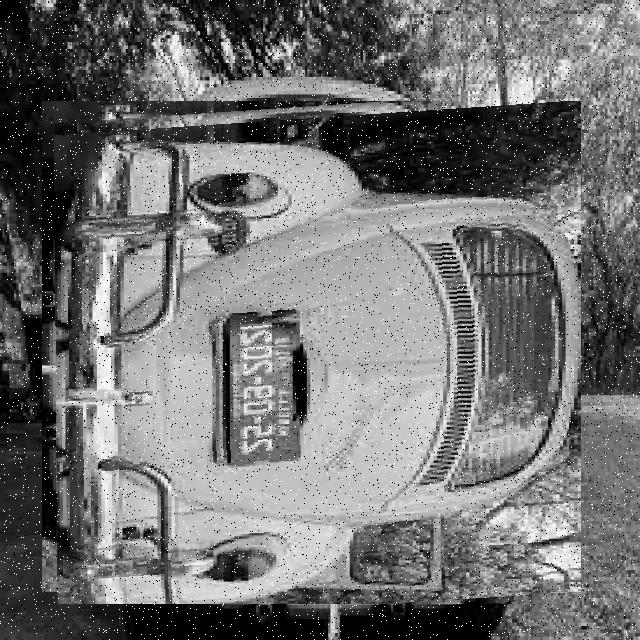car: (55, 90, 570, 605)
